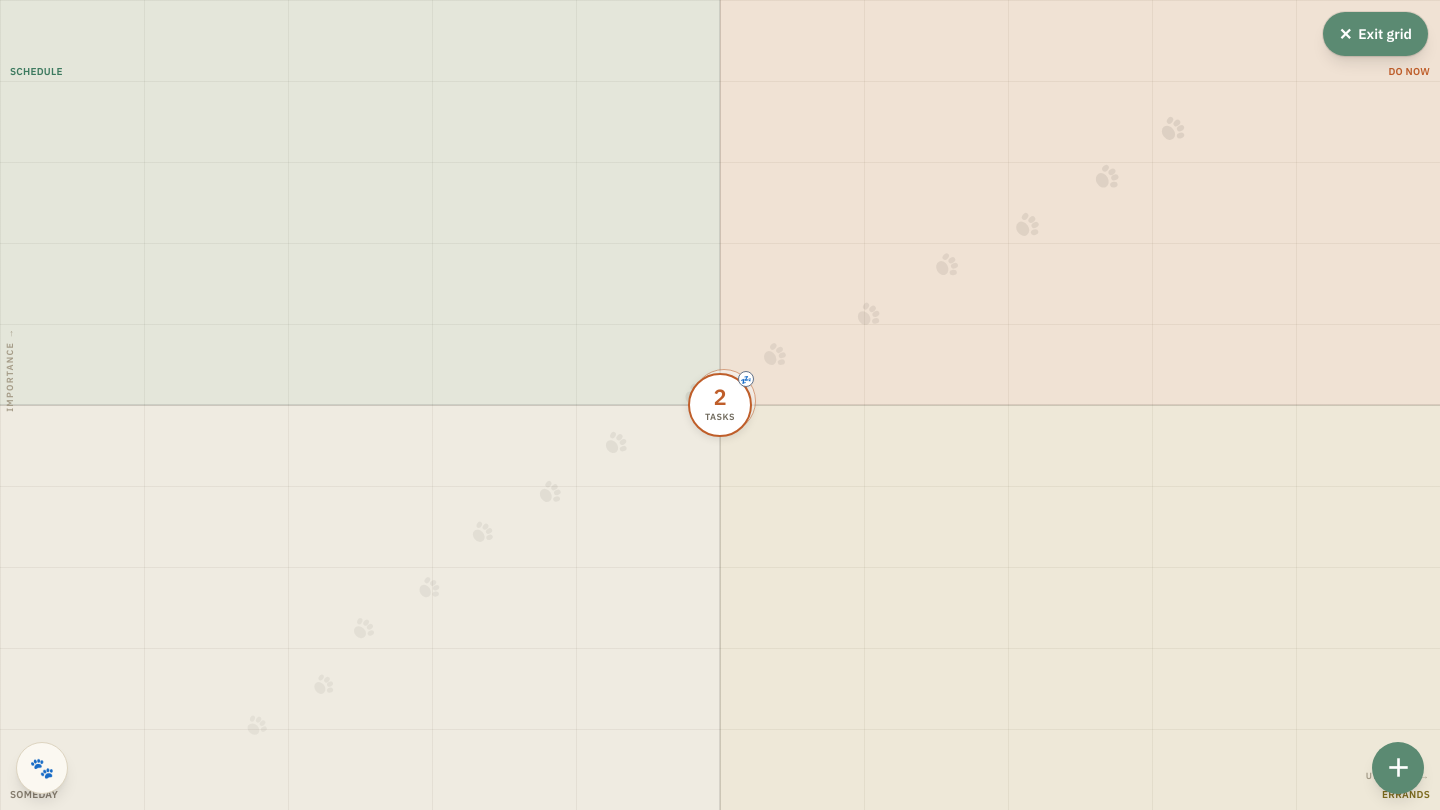
Test: TouchGridSurface rendering › a paused cluster member keeps its ⏸ chip + dim in the member list
Click the button "2 tasks 💤" at coordinates (720, 405), box [688,373,752,437]
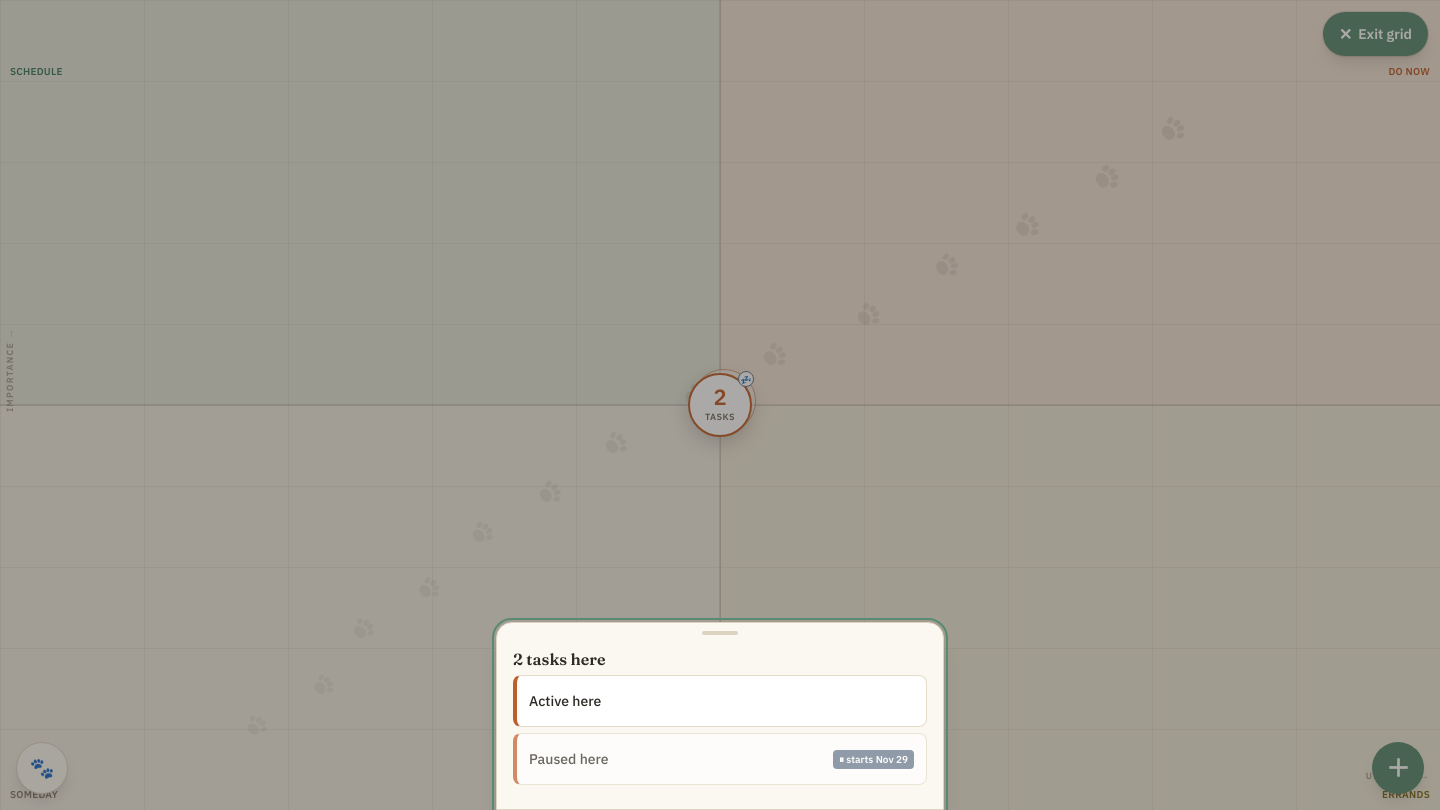
Expected: the text "⏸ starts Nov 29" is shown, [833,750,914,768]
